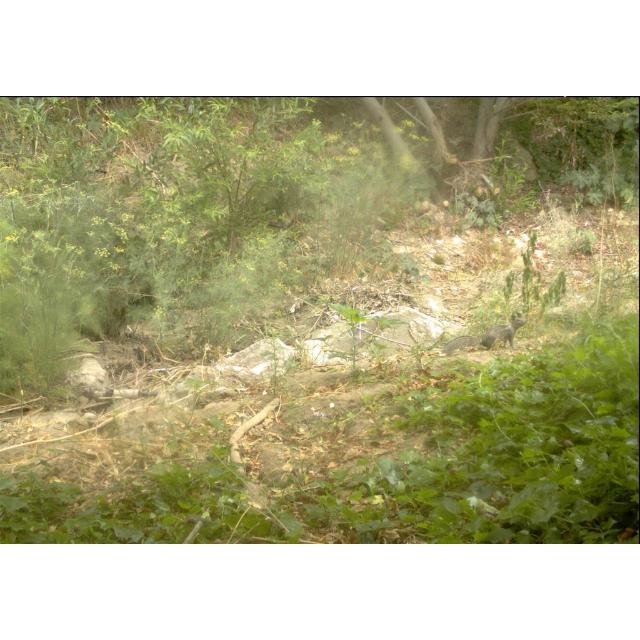animals: (443, 311, 532, 355)
